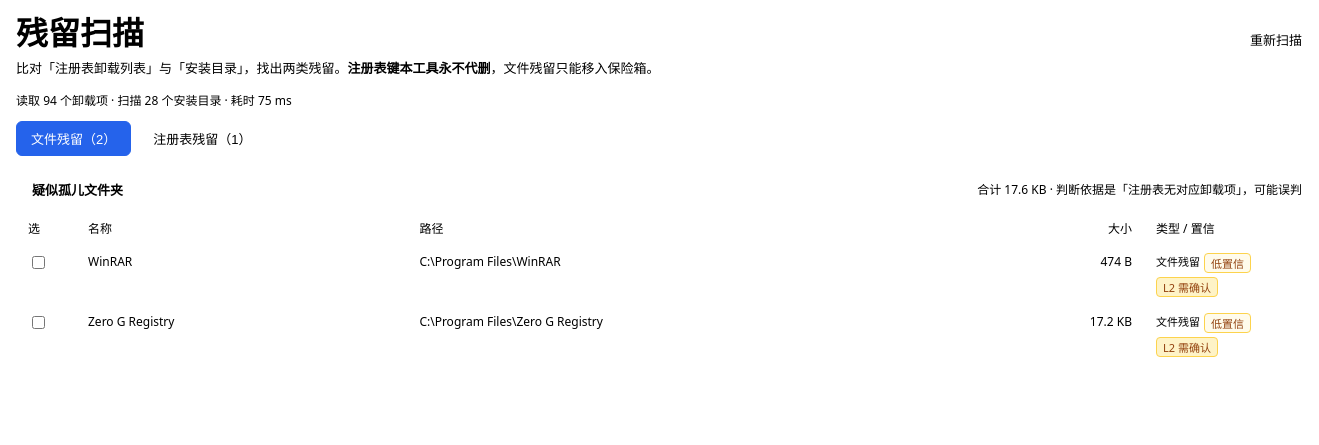
Test: 残留扫描 › 勾选后出现操作条，显示项数与合计大小
The image size is (1319, 445).
Check: the text "WinRAR" is shown, box [76,245,407,305]
Click the checkbox named "选择 WinRAR" at point(38, 262), box [32,256,45,269]
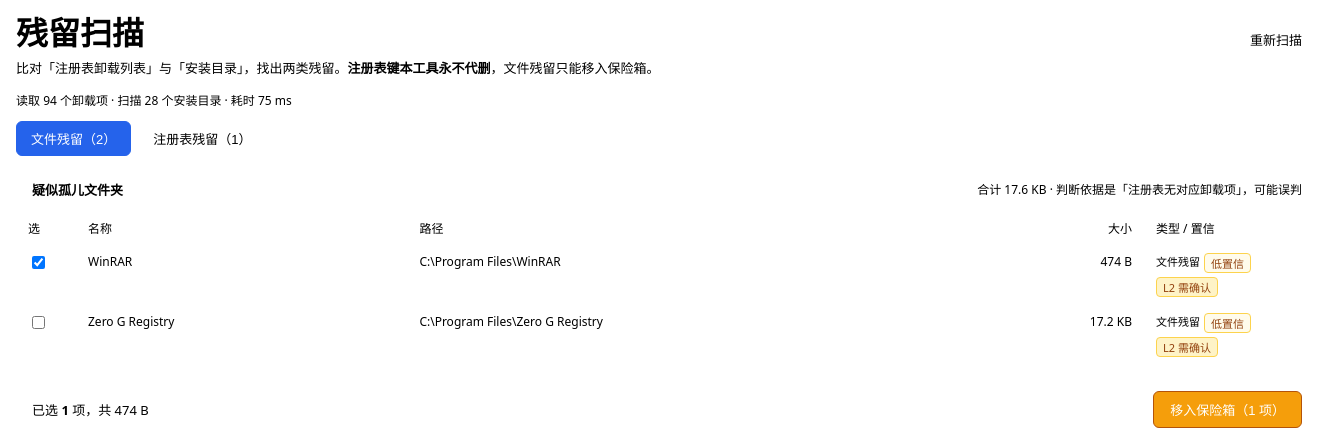
Check: the text "已选 1 项，共 474 B" is shown, box [32,400,149,419]
Check: the button "移入保险箱（1 项）" is shown, box [1153,391,1302,428]
